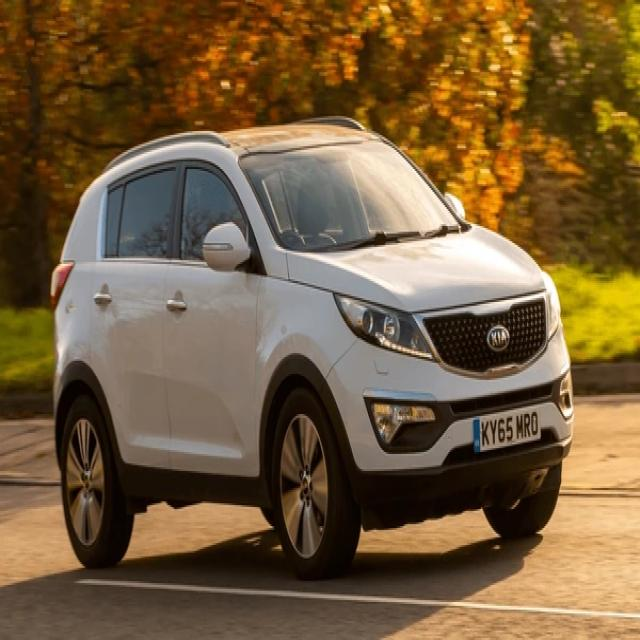kia: (487, 326, 512, 351)
